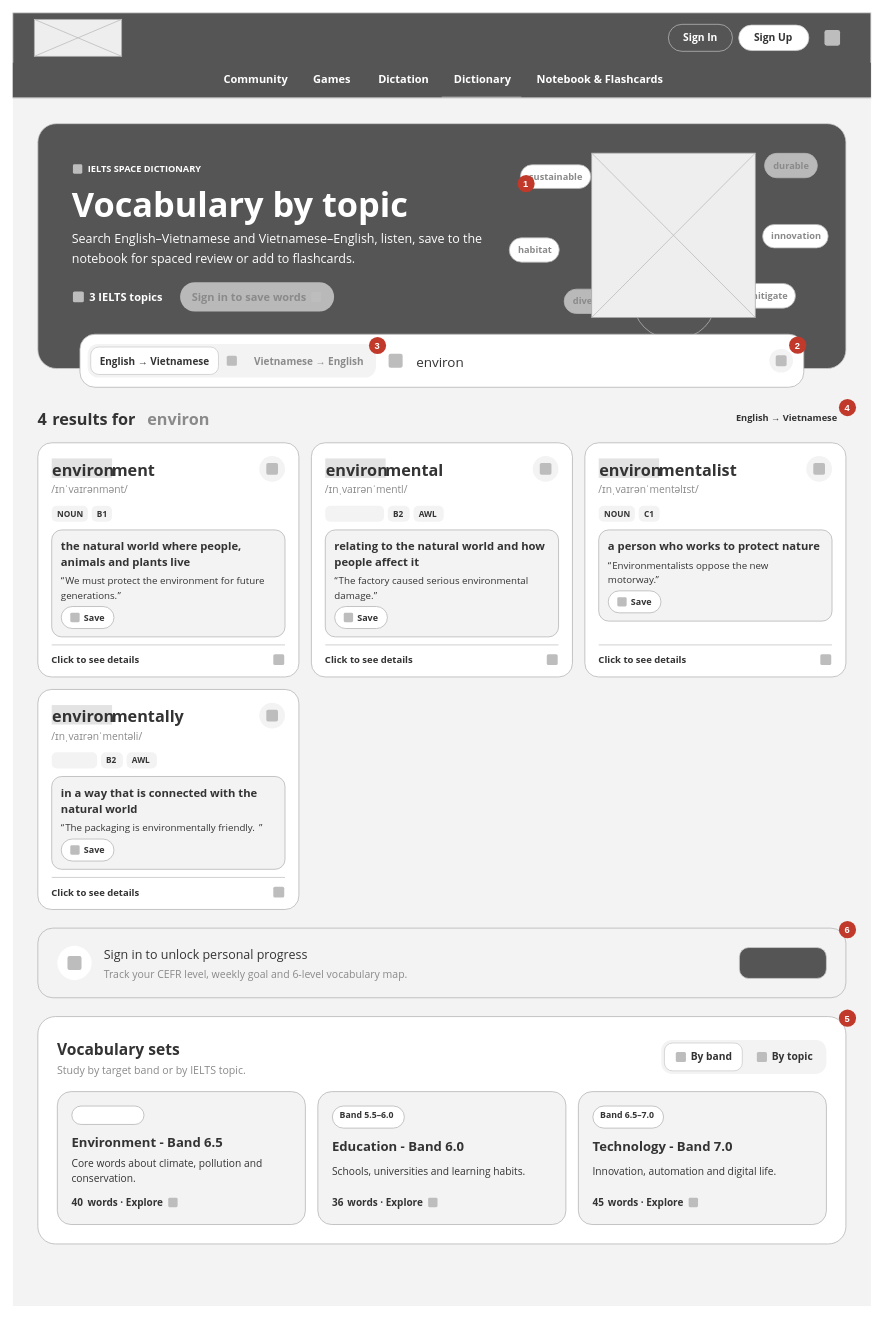
This 884x1319 diagram has some shape labels left out. The shapes that lost their labels are listed below. From the top down, each one's box as (x1, y1, x2, y2) in pixels, then its label:
(325, 505, 384, 521): ADJECTIVE
(51, 752, 97, 768): ADVERB
(739, 947, 826, 978): Sign in now
(71, 1105, 144, 1124): Band 6.0–6.5
